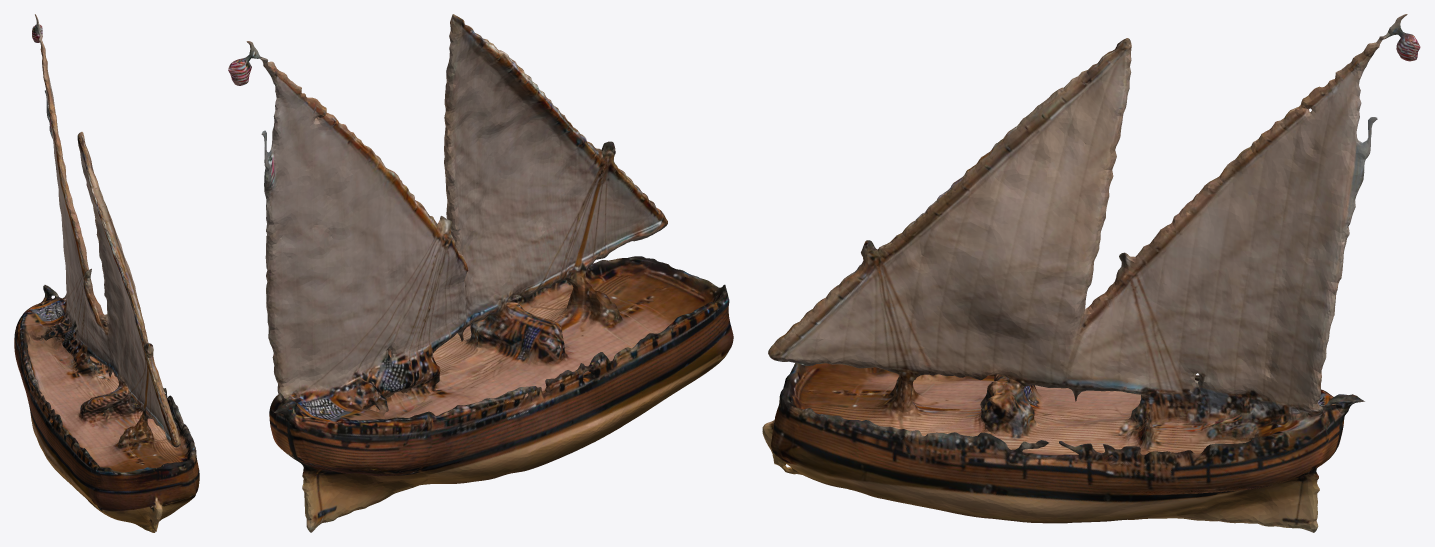
The model's file is Savannah I - a_detailed_model_of_a_sailing_ship_with_two_masts_and_tan_canvas_sails_the_wooden_hull_and_decking.glb.
3 renders of one model, left to right at view 1: azimuth 30°, elevation 25°; view 2: azimuth 150°, elevation 25°; view 3: azimuth 270°, elevation 25°, orthographic. The views are drawn at different scales.
Visible parts, largest first — view 1: geometry_0; view 2: geometry_0; view 3: geometry_0.
Boxes of the visible parts, x1,y1,x2,y2 form: geometry_0: (14, 14, 199, 532); geometry_0: (228, 14, 733, 532); geometry_0: (762, 14, 1420, 532).
Size of the model in its own units: 0.3579 by 0.7626 by 0.8615.
Materials: 1 (1 with a texture image).
